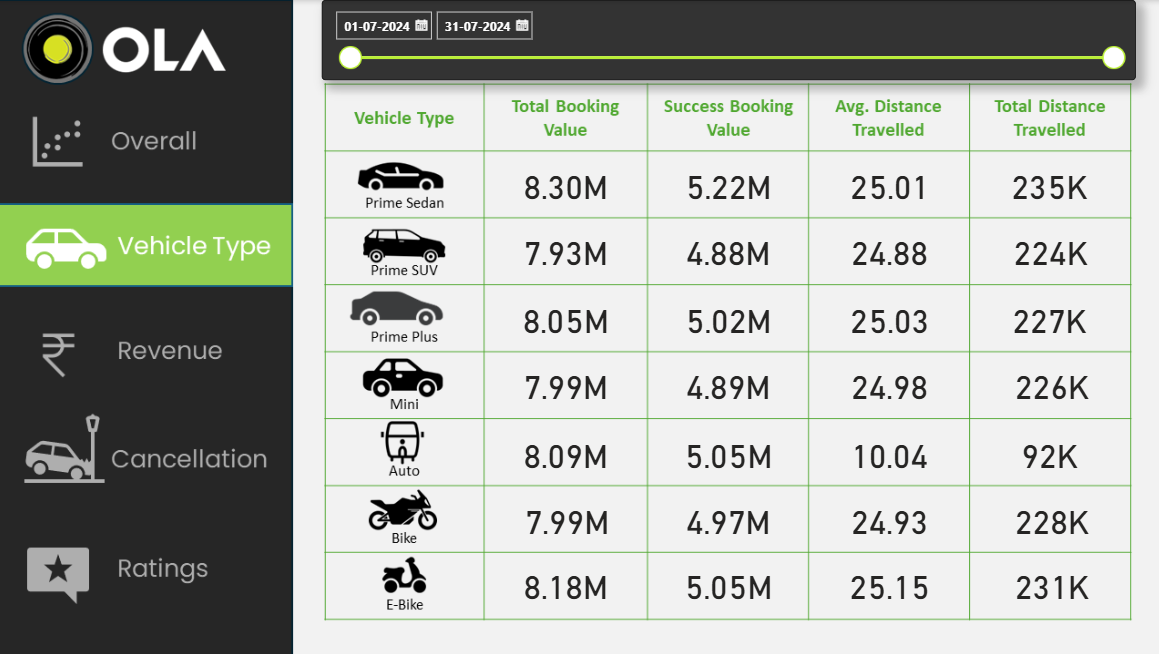

Layout of this report page (visuals, bound fields, positions):
{"tool":"powerbi","page":{"name":"Vehicle Type","canvas":[1280,720],"ordinal":1},"visuals":[{"type":"actionButton","box":[0,112.2,325.6,91.7],"z":0},{"type":"actionButton","box":[0,338.9,325.6,91.7],"z":1000},{"type":"actionButton","box":[0,452.3,325.6,91.7],"z":2000},{"type":"actionButton","box":[0,577.7,325.6,91.7],"z":3000},{"type":"card","fields":{"Values":["Sum(July.Booking_Value)"]},"box":[542,171.5,163.3,61.7],"z":4000},{"type":"card","fields":{"Values":["Sum(July.Booking_Value)"]},"box":[542,610.6,163.3,61.7],"z":5000},{"type":"card","fields":{"Values":["Sum(July.Booking_Value)"]},"box":[542,244.3,163.3,61.7],"z":6000},{"type":"card","fields":{"Values":["Sum(July.Booking_Value)"]},"box":[720.4,171.5,163.3,61.7],"z":7000},{"type":"card","fields":{"Values":["Sum(July.Booking_Value)"]},"box":[542,318.4,163.3,61.7],"z":8000},{"type":"card","fields":{"Values":["Sum(July.Booking_Value)"]},"box":[542,391.1,163.3,61.7],"z":9000},{"type":"card","fields":{"Values":["Sum(July.Booking_Value)"]},"box":[542,466.6,163.3,61.7],"z":10000},{"type":"card","fields":{"Values":["Sum(July.Booking_Value)"]},"box":[543.4,539.3,163.3,61.7],"z":11000},{"type":"card","fields":{"Values":["Sum(July.Booking_Value)"]},"box":[720.4,244.3,163.3,61.7],"z":12000},{"type":"card","fields":{"Values":["Sum(July.Booking_Value)"]},"box":[720.4,318.4,163.3,61.7],"z":13000},{"type":"card","fields":{"Values":["Sum(July.Booking_Value)"]},"box":[720.4,391.1,163.3,61.7],"z":14000},{"type":"card","fields":{"Values":["Sum(July.Booking_Value)"]},"box":[720.4,466.6,163.3,61.7],"z":15000},{"type":"card","fields":{"Values":["Sum(July.Booking_Value)"]},"box":[720.4,539.3,163.3,61.7],"z":16000},{"type":"card","fields":{"Values":["Sum(July.Booking_Value)"]},"box":[720.4,610.6,163.3,61.7],"z":17000},{"type":"card","fields":{"Values":["Avg(July.Ride_Distance)"]},"box":[897.4,171.5,163.3,61.7],"z":18000},{"type":"card","fields":{"Values":["Sum(July.Ride_Distance)"]},"box":[1073.1,171.5,163.3,61.7],"z":19000},{"type":"card","fields":{"Values":["Avg(July.Ride_Distance)"]},"box":[897.4,244.3,163.3,61.7],"z":20000},{"type":"card","fields":{"Values":["Avg(July.Ride_Distance)"]},"box":[897.4,318.4,163.3,61.7],"z":21000},{"type":"card","fields":{"Values":["Avg(July.Ride_Distance)"]},"box":[897.4,391.1,163.3,61.7],"z":22000},{"type":"card","fields":{"Values":["Avg(July.Ride_Distance)"]},"box":[897.4,466.6,163.3,61.7],"z":23000},{"type":"card","fields":{"Values":["Avg(July.Ride_Distance)"]},"box":[897.4,539.3,163.3,61.7],"z":24000},{"type":"card","fields":{"Values":["Avg(July.Ride_Distance)"]},"box":[897.4,610.6,163.3,61.7],"z":25000},{"type":"card","fields":{"Values":["Sum(July.Ride_Distance)"]},"box":[1073.1,318.4,163.3,61.7],"z":26000},{"type":"card","fields":{"Values":["Sum(July.Ride_Distance)"]},"box":[1074.4,244.3,163.3,61.7],"z":27000},{"type":"card","fields":{"Values":["Sum(July.Ride_Distance)"]},"box":[1075.8,391.1,163.3,61.7],"z":28000},{"type":"card","fields":{"Values":["Sum(July.Ride_Distance)"]},"box":[1073.1,466.6,163.3,61.7],"z":29000},{"type":"card","fields":{"Values":["Sum(July.Ride_Distance)"]},"box":[1075.8,539.3,163.3,61.7],"z":30000},{"type":"card","fields":{"Values":["Sum(July.Ride_Distance)"]},"box":[1075.8,610.6,163.3,61.7],"z":31000},{"type":"slicer","title":"Date","fields":{"Values":["July.Date"]},"box":[355.4,0,893.3,87.8],"z":32000}]}

Visuals, with their boxes on the page's 1280x720 design canvas (x1, y1, x2, y2). These are canvas units, not pixel positions in the 1159x654 screenshot, which may show the page scaled, cropped or inside an application window:
actionButton: detection(0, 112, 326, 204)
actionButton: detection(0, 339, 326, 431)
actionButton: detection(0, 452, 326, 544)
actionButton: detection(0, 578, 326, 669)
card - Sum(July.Booking_Value): detection(542, 172, 705, 233)
card - Sum(July.Booking_Value): detection(542, 611, 705, 672)
card - Sum(July.Booking_Value): detection(542, 244, 705, 306)
card - Sum(July.Booking_Value): detection(720, 172, 884, 233)
card - Sum(July.Booking_Value): detection(542, 318, 705, 380)
card - Sum(July.Booking_Value): detection(542, 391, 705, 453)
card - Sum(July.Booking_Value): detection(542, 467, 705, 528)
card - Sum(July.Booking_Value): detection(543, 539, 707, 601)
card - Sum(July.Booking_Value): detection(720, 244, 884, 306)
card - Sum(July.Booking_Value): detection(720, 318, 884, 380)
card - Sum(July.Booking_Value): detection(720, 391, 884, 453)
card - Sum(July.Booking_Value): detection(720, 467, 884, 528)
card - Sum(July.Booking_Value): detection(720, 539, 884, 601)
card - Sum(July.Booking_Value): detection(720, 611, 884, 672)
card - Avg(July.Ride_Distance): detection(897, 172, 1061, 233)
card - Sum(July.Ride_Distance): detection(1073, 172, 1236, 233)
card - Avg(July.Ride_Distance): detection(897, 244, 1061, 306)
card - Avg(July.Ride_Distance): detection(897, 318, 1061, 380)
card - Avg(July.Ride_Distance): detection(897, 391, 1061, 453)
card - Avg(July.Ride_Distance): detection(897, 467, 1061, 528)
card - Avg(July.Ride_Distance): detection(897, 539, 1061, 601)
card - Avg(July.Ride_Distance): detection(897, 611, 1061, 672)
card - Sum(July.Ride_Distance): detection(1073, 318, 1236, 380)
card - Sum(July.Ride_Distance): detection(1074, 244, 1238, 306)
card - Sum(July.Ride_Distance): detection(1076, 391, 1239, 453)
card - Sum(July.Ride_Distance): detection(1073, 467, 1236, 528)
card - Sum(July.Ride_Distance): detection(1076, 539, 1239, 601)
card - Sum(July.Ride_Distance): detection(1076, 611, 1239, 672)
"Date" slicer: detection(355, 0, 1249, 88)
